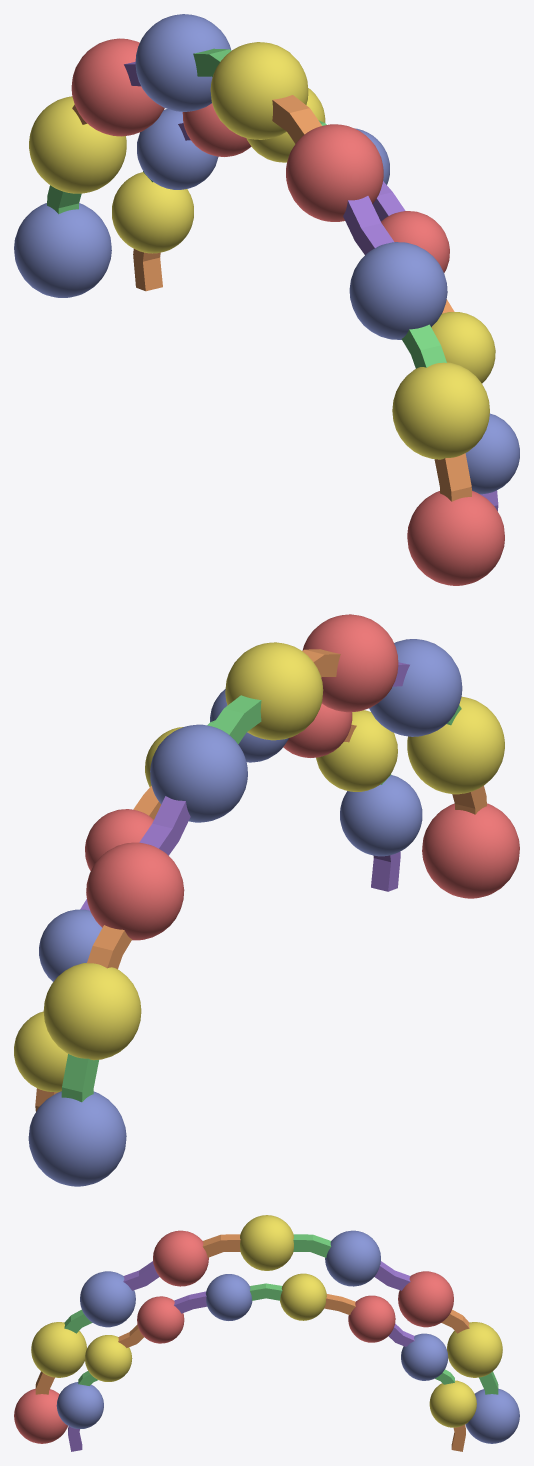
File: checkpointv2.fbx
3 views of the same model, one above another, from view 1: azimuth 30°, elevation 25°; view 2: azimuth 150°, elevation 25°; view 3: azimuth 270°, elevation 25° (orthographic). The views are drawn at different scales.
Parts seen in each view (by area): view 1: Cube.253; view 2: Cube.253; view 3: Cube.253.
Boxes of the visible parts, x1=… form: Cube.253: x1=14, y1=14, x2=519, y2=585; Cube.253: x1=14, y1=614, x2=519, y2=1186; Cube.253: x1=14, y1=1215, x2=519, y2=1451.
Size of the model in its own units: 481 by 1336 by 2738.
